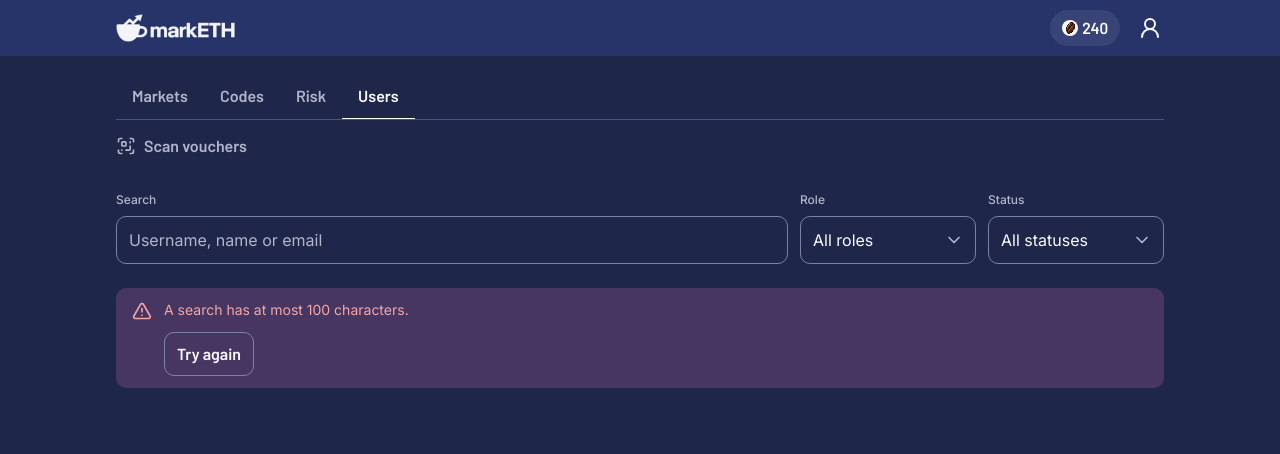
Scenario: Admin: users › users that cannot be read show the API's message with Try again
Expected: the message shows "A search has at most 100 characters.", x1=164 y1=301 x2=409 y2=318
Click the button "Try again". click: coordinates (209, 354)
box: x1=164 y1=332 x2=254 y2=376
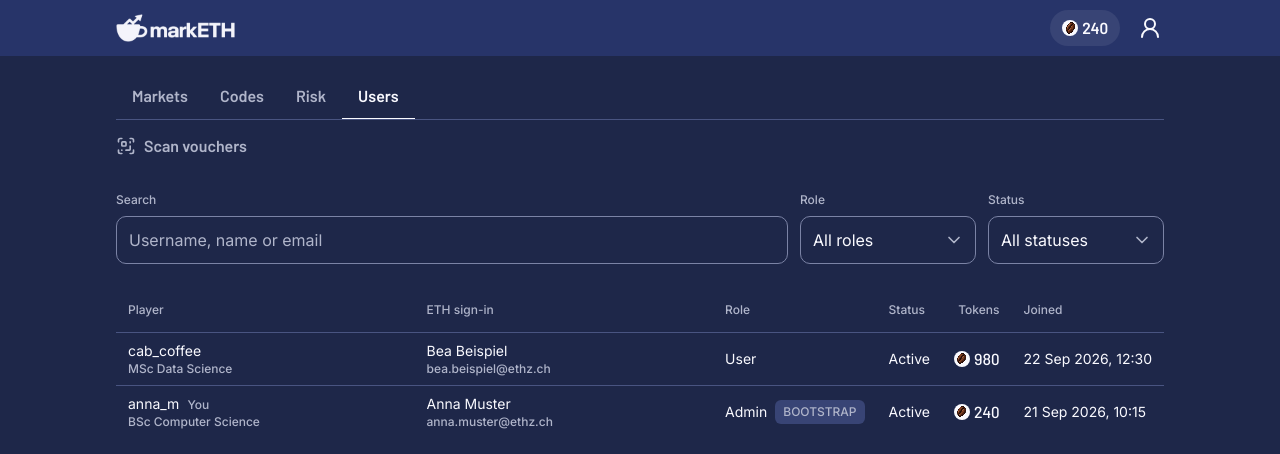
Expected: the table named "Users" is shown, x1=116 y1=288 x2=1164 y2=438
Expected: the message "A search has at most 100 characters. Try again" is gone
